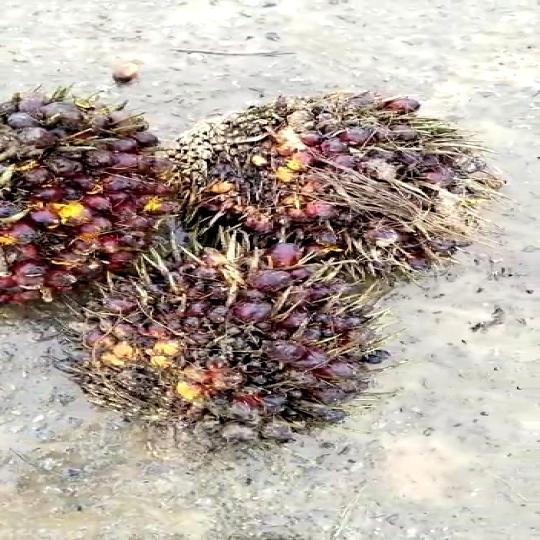kurang masak: (48, 247, 400, 463), (192, 82, 494, 268), (0, 90, 179, 311)
